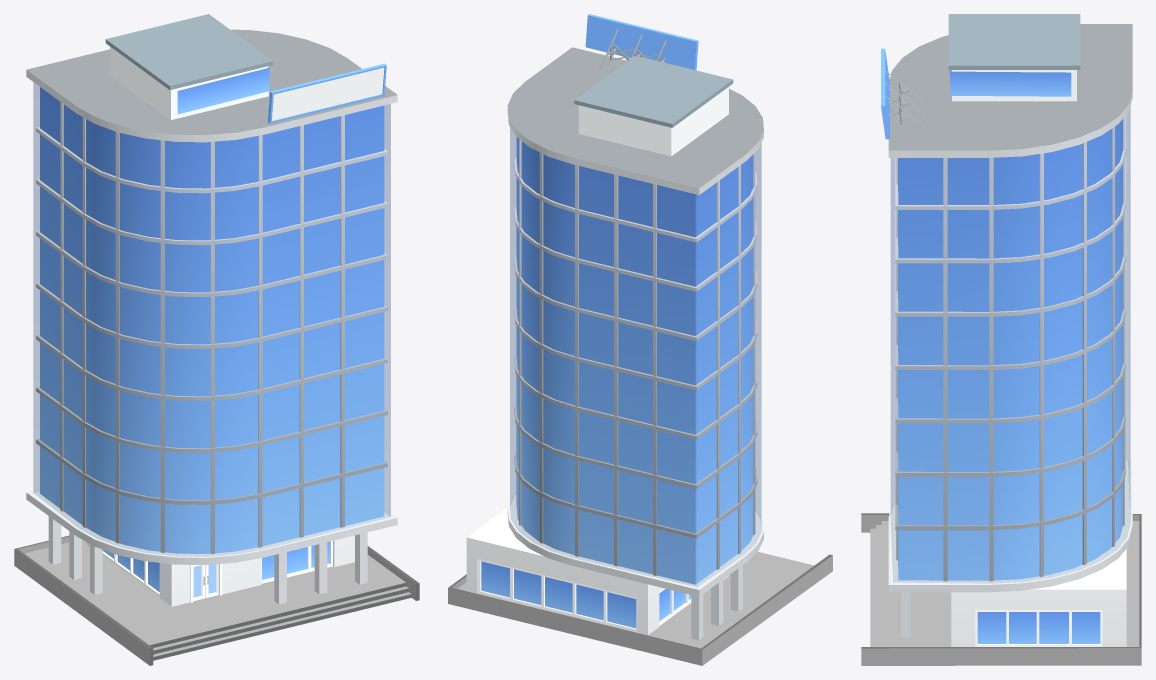
The model's file is city2-building-business-09.glb.
The picture shows the model from 3 angles, left to right: view 1: azimuth 30°, elevation 25°; view 2: azimuth 150°, elevation 25°; view 3: azimuth 270°, elevation 25°; orthographic projection. The views are drawn at different scales.
Visible parts, largest first — view 1: Building_Business_09; view 2: Building_Business_09; view 3: Building_Business_09.
Part boxes in pixels (bbox=[...]): Building_Business_09: bbox=[14, 14, 419, 665]; Building_Business_09: bbox=[448, 14, 832, 665]; Building_Business_09: bbox=[861, 14, 1141, 665].
Bounding box in the file's own units: 17.05 × 32.26 × 14.94.
2 materials, 2 textured.
